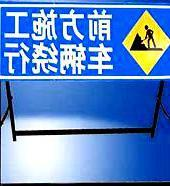sign: (1, 2, 169, 79)
